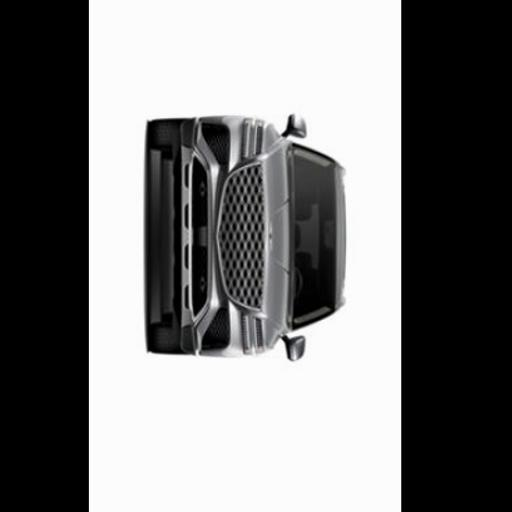suv: (148, 115, 345, 360)
